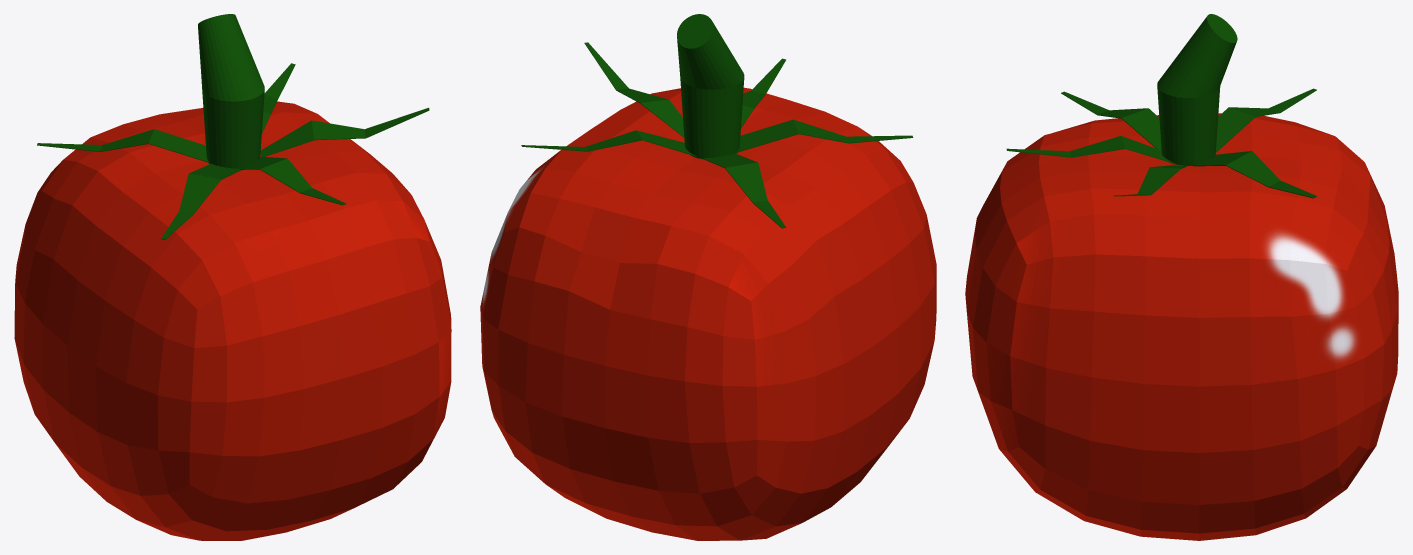
File: tomato 23.11.2023_normalsfixed.fbx
The picture shows the model from 3 angles, left to right: view 1: azimuth 30°, elevation 25°; view 2: azimuth 150°, elevation 25°; view 3: azimuth 270°, elevation 25°; orthographic projection. The views are drawn at different scales.
Parts seen in each view (by area): view 1: Cube, Cylinder, Plane; view 2: Cube, Cylinder, Plane; view 3: Cube, Cylinder, Plane.
Part boxes in pixels (x1,y1,x2,y2): Cube: [14, 101, 451, 540]; Cylinder: [198, 14, 264, 168]; Plane: [37, 63, 429, 239]; Cube: [480, 87, 936, 540]; Cylinder: [677, 14, 744, 159]; Plane: [521, 42, 913, 228]; Cube: [965, 113, 1398, 540]; Cylinder: [1157, 14, 1237, 165]; Plane: [1006, 88, 1316, 198].
Bounding box in the file's own units: 9.03 × 13.02 × 10.3.
